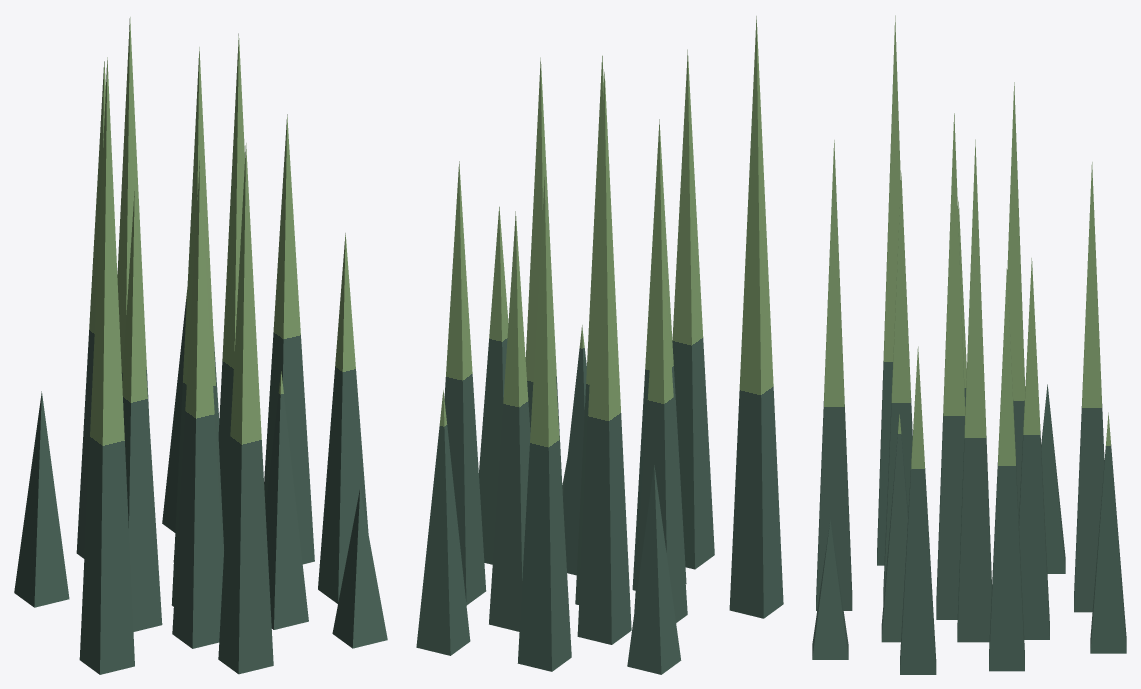
The model's file is HighGrass.glb.
3 renders of one model, left to right at view 1: azimuth 30°, elevation 25°; view 2: azimuth 150°, elevation 25°; view 3: azimuth 270°, elevation 25°, orthographic. The views are drawn at different scales.
Parts seen in each view (by area): view 1: Tree.059; view 2: Tree.059; view 3: Tree.059.
Part boxes in pixels (x1=…): Tree.059: x1=14, y1=17, x2=387, y2=674; Tree.059: x1=416, y1=16, x2=783, y2=674; Tree.059: x1=812, y1=15, x2=1126, y2=674.
Size of the model in its own units: 0.2564 by 0.521 by 0.2729.
1 material, 1 textured.
